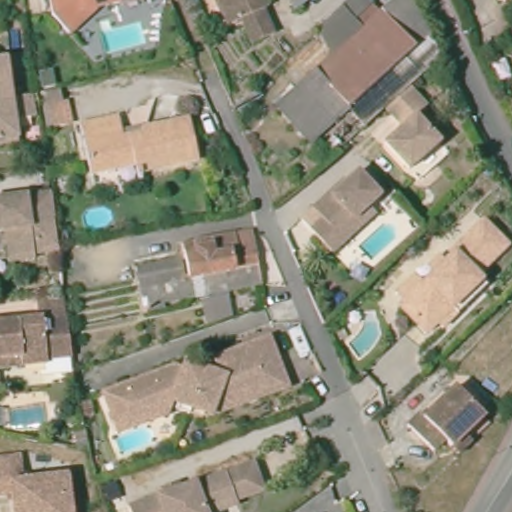pool: (344, 311, 387, 364), (2, 393, 51, 436), (99, 22, 149, 56), (356, 223, 400, 261), (113, 424, 158, 456), (80, 204, 119, 234)
